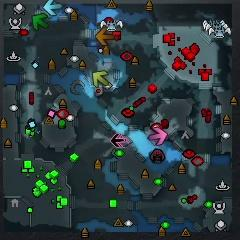x1: (149, 124, 168, 145)
x1Clone: (110, 133, 124, 147), (117, 133, 128, 148)
x2: (93, 70, 109, 86)
x3: (43, 0, 61, 16)
x4: (32, 14, 48, 31)
x5: (97, 28, 114, 44)
